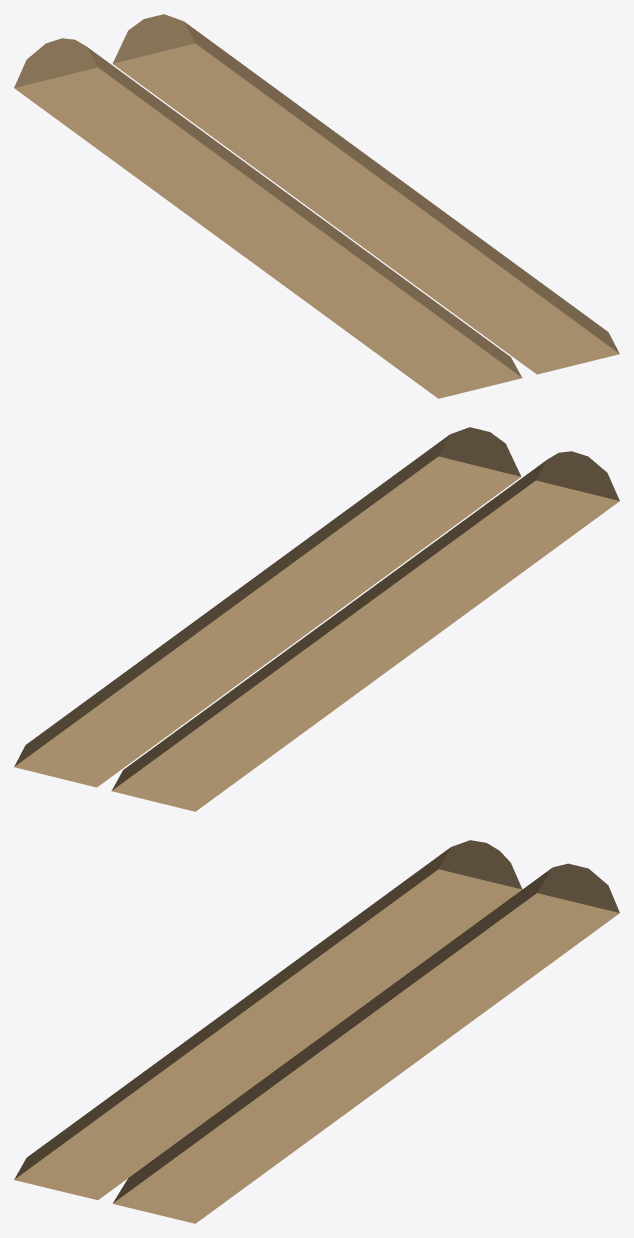
The picture shows the model from 3 angles, top to bottom: view 1: azimuth 30°, elevation 25°; view 2: azimuth 150°, elevation 25°; view 3: azimuth 330°, elevation 25°; orthographic projection.
Visible parts, largest first — view 1: 0_2_0_1_2_1_2_3_3_0_3; view 2: 0_2_0_1_2_1_2_3_3_0_3; view 3: 0_2_0_1_2_1_2_3_3_0_3.
Part boxes in pixels (x1,y1,x2,y2): 0_2_0_1_2_1_2_3_3_0_3: [14, 14, 619, 398]; 0_2_0_1_2_1_2_3_3_0_3: [14, 427, 619, 811]; 0_2_0_1_2_1_2_3_3_0_3: [14, 840, 619, 1223].
Size of the model in its own units: 7.4 by 1.49 by 30.
